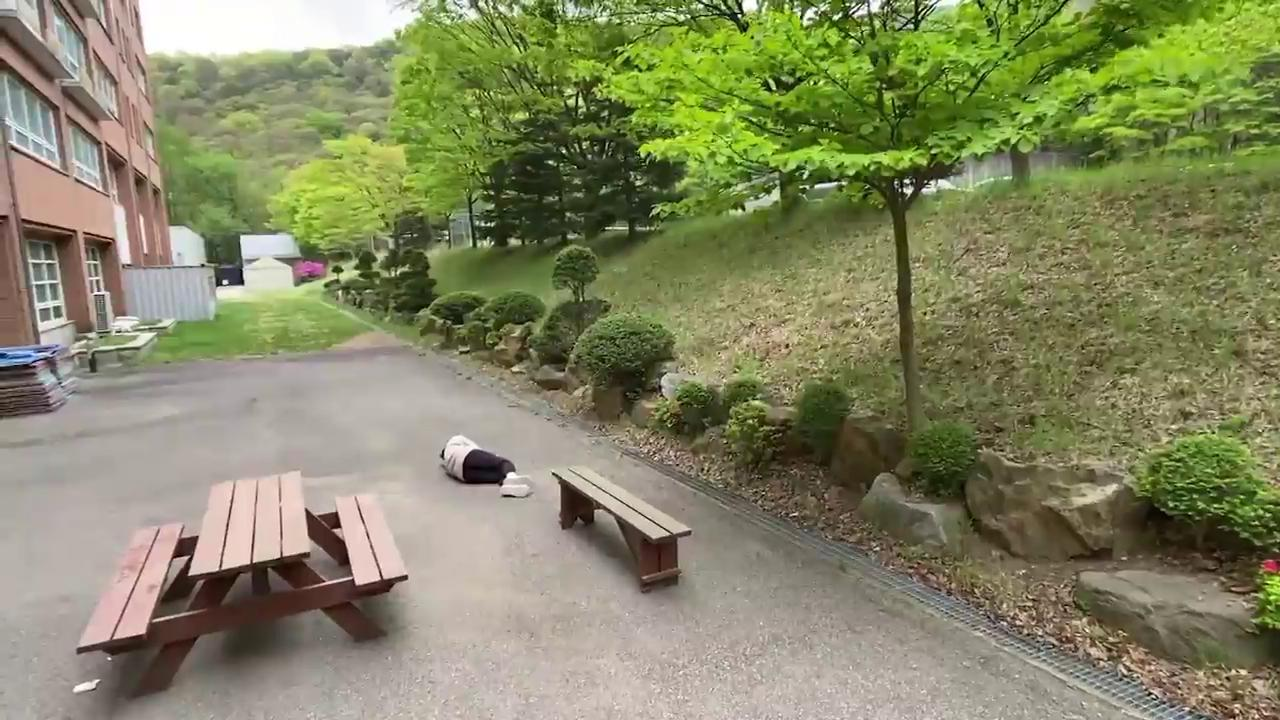faint: (438, 430, 533, 496)
